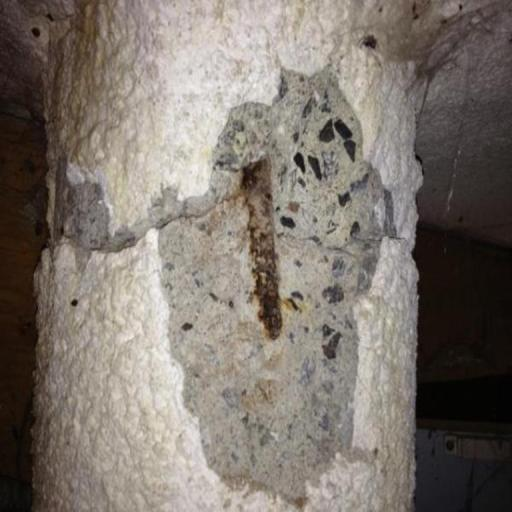spalling: (57, 65, 405, 495)
